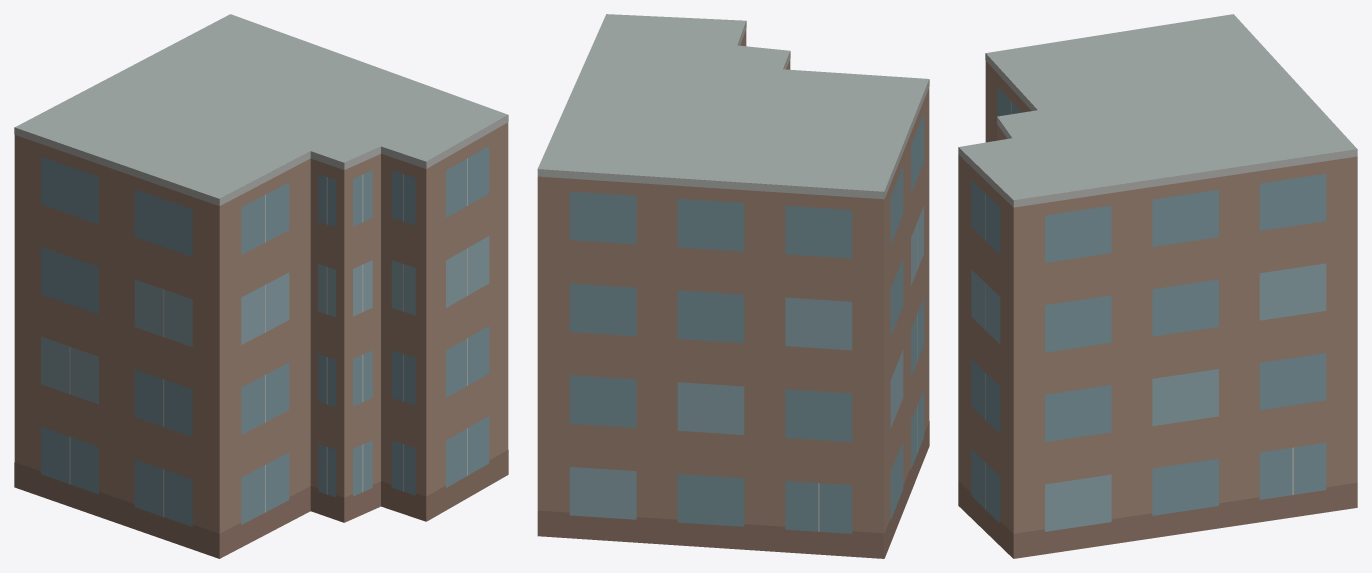
File: survey-upis-32863570.glb
3 renders of one model, left to right at view 1: azimuth 30°, elevation 25°; view 2: azimuth 150°, elevation 25°; view 3: azimuth 270°, elevation 25°, orthographic. The views are drawn at different scales.
Visible parts, largest first — view 1: survey-upis-32863570.tmp; view 2: survey-upis-32863570.tmp; view 3: survey-upis-32863570.tmp.
Boxes of the visible parts, bbox=[...] form: survey-upis-32863570.tmp: bbox=[14, 14, 508, 558]; survey-upis-32863570.tmp: bbox=[537, 14, 929, 558]; survey-upis-32863570.tmp: bbox=[958, 14, 1357, 558].
Bounding box in the file's own units: 13.38 × 12 × 12.12.
